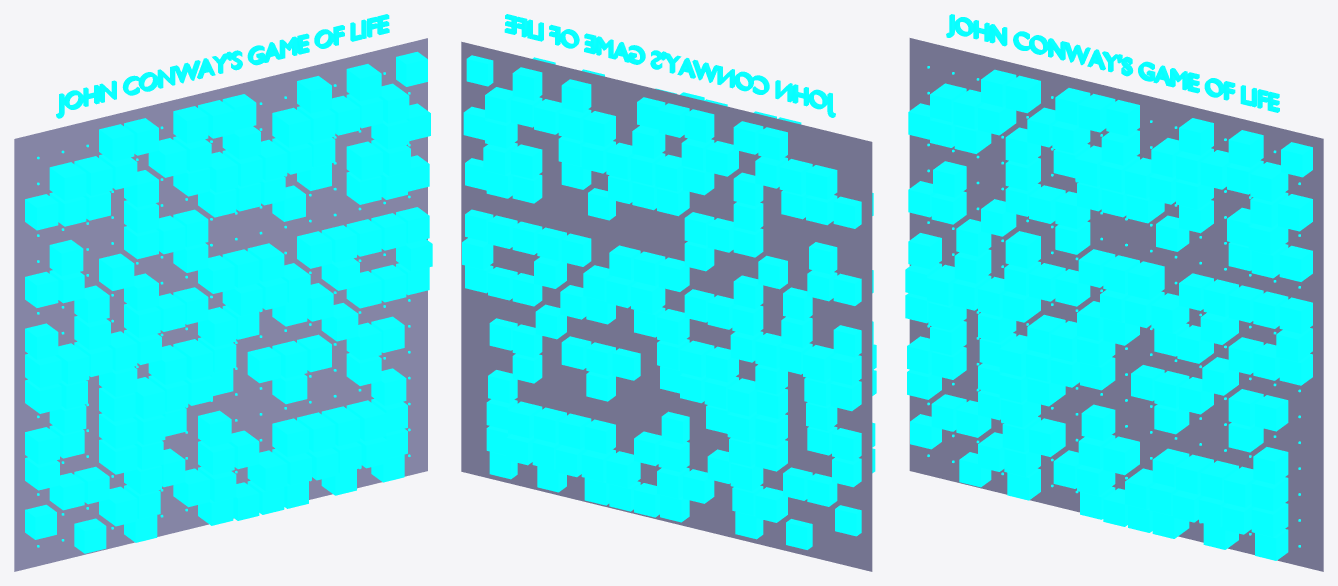
The model's file is Conway_life.glb.
3 renders of one model, left to right at view 1: azimuth 30°, elevation 25°; view 2: azimuth 150°, elevation 25°; view 3: azimuth 330°, elevation 25°, orthographic.
Parts seen in each view (by area): view 1: Plane, Text, Cube.235, Cube.226, Cube.026, Cube.206, Cube.043, Cube.120, Cube.020, Cube.230, Cube.254, Cube.164 (+131 smaller); view 2: Plane, Text, Cube.026, Cube.113, Cube.235, Cube.120, Cube.230, Cube.020, Cube.085, Cube.065, Cube.097, Cube.247 (+131 smaller); view 3: Plane, Text, Cube.239, Cube.038, Cube.041, Cube.154, Cube.139, Cube.063, Cube.245, Cube.149, Cube.254, Cube.233 (+132 smaller).
Boxes of the visible parts, left/top/right/bottom form: Plane: left=14, top=38, right=427, bottom=571; Text: left=56, top=14, right=389, bottom=118; Cube.235: left=272, top=107, right=310, bottom=147; Cube.226: left=49, top=162, right=86, bottom=200; Cube.026: left=247, top=450, right=287, bottom=491; Cube.206: left=346, top=141, right=382, bottom=180; Cube.043: left=272, top=418, right=308, bottom=456; Cube.120: left=198, top=307, right=236, bottom=346; Cube.020: left=99, top=486, right=137, bottom=526; Cube.230: left=148, top=138, right=186, bottom=177; Cube.254: left=346, top=64, right=381, bottom=101; Cube.164: left=99, top=253, right=134, bottom=290; Plane: left=461, top=41, right=872, bottom=571; Text: left=504, top=14, right=835, bottom=117; Cube.026: left=606, top=451, right=640, bottom=487; Cube.113: left=830, top=344, right=876, bottom=385; Cube.235: left=583, top=111, right=615, bottom=146; Cube.120: left=657, top=309, right=689, bottom=344; Cube.230: left=706, top=141, right=738, bottom=176; Cube.020: left=755, top=487, right=787, bottom=522; Cube.085: left=727, top=378, right=758, bottom=416; Cube.065: left=832, top=422, right=875, bottom=461; Cube.097: left=830, top=370, right=876, bottom=411; Cube.247: left=684, top=99, right=727, bottom=142; Plane: left=909, top=38, right=1323, bottom=571; Text: left=946, top=14, right=1279, bottom=112; Cube.239: left=1250, top=162, right=1288, bottom=201; Cube.038: left=1029, top=418, right=1065, bottom=456; Cube.041: left=1103, top=436, right=1139, bottom=475; Cube.154: left=1128, top=261, right=1164, bottom=299; Cube.139: left=1151, top=293, right=1189, bottom=332; Cube.063: left=1253, top=447, right=1288, bottom=484; Cube.245: left=1005, top=75, right=1040, bottom=113; Cube.149: left=1005, top=231, right=1040, bottom=268; Cube.254: left=1228, top=130, right=1263, bottom=167; Cube.233: left=1101, top=130, right=1139, bottom=165.
Bounding box in the file's own units: 9.2 × 9.97 × 1.32.
